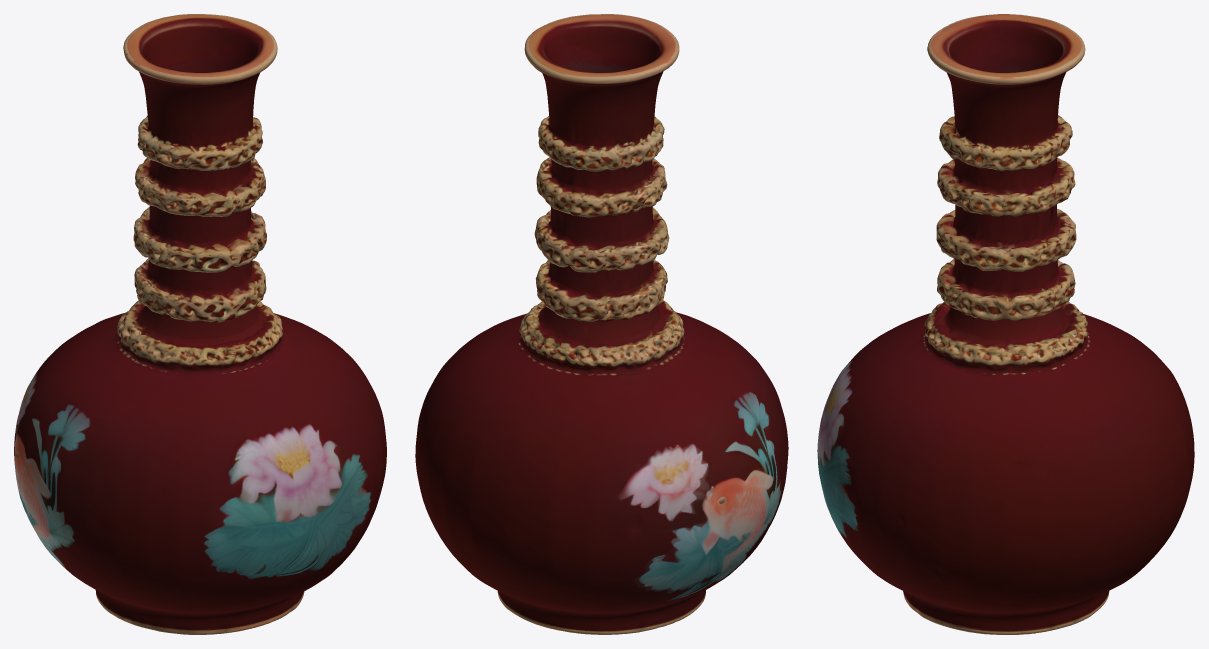
3 renders of one model, left to right at view 1: azimuth 30°, elevation 25°; view 2: azimuth 150°, elevation 25°; view 3: azimuth 270°, elevation 25°, orthographic.
Parts seen in each view (by area): view 1: texture_v130_hdr_21w_pbr_dino_11w.001; view 2: texture_v130_hdr_21w_pbr_dino_11w.001; view 3: texture_v130_hdr_21w_pbr_dino_11w.001.
Boxes of the visible parts, box(x1,y1,x2,y2) form: texture_v130_hdr_21w_pbr_dino_11w.001: box(14, 14, 386, 634); texture_v130_hdr_21w_pbr_dino_11w.001: box(415, 14, 788, 634); texture_v130_hdr_21w_pbr_dino_11w.001: box(817, 14, 1194, 634).
Size of the model in its own units: 1.24 by 2 by 1.25.
Materials: 1 (1 with a texture image).
